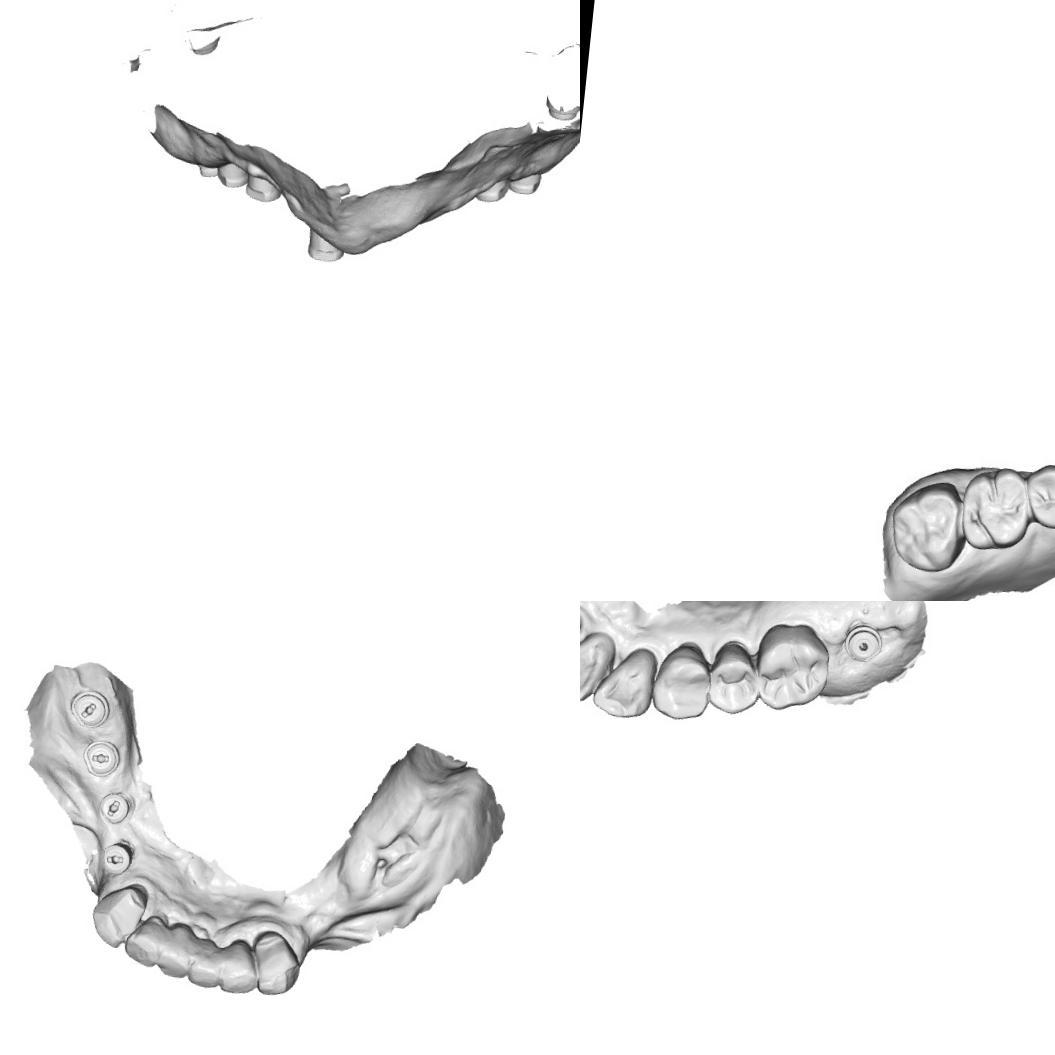canine: (590, 644, 660, 724), (88, 880, 152, 952), (247, 927, 305, 999)
implant: (841, 618, 884, 665), (242, 170, 284, 206), (305, 230, 346, 266), (473, 178, 510, 205), (507, 170, 542, 198), (216, 164, 250, 192), (198, 162, 220, 178)
implant_minus: (78, 736, 124, 780), (67, 687, 114, 730), (98, 838, 137, 878), (96, 788, 136, 826)
incisor: (216, 936, 264, 998), (580, 628, 616, 706), (154, 921, 200, 980), (122, 911, 166, 969), (186, 934, 224, 990)
molar: (882, 475, 970, 576), (955, 459, 1035, 557)
premolar: (749, 617, 836, 717), (649, 637, 715, 723), (705, 638, 762, 718), (1024, 460, 1055, 531)
